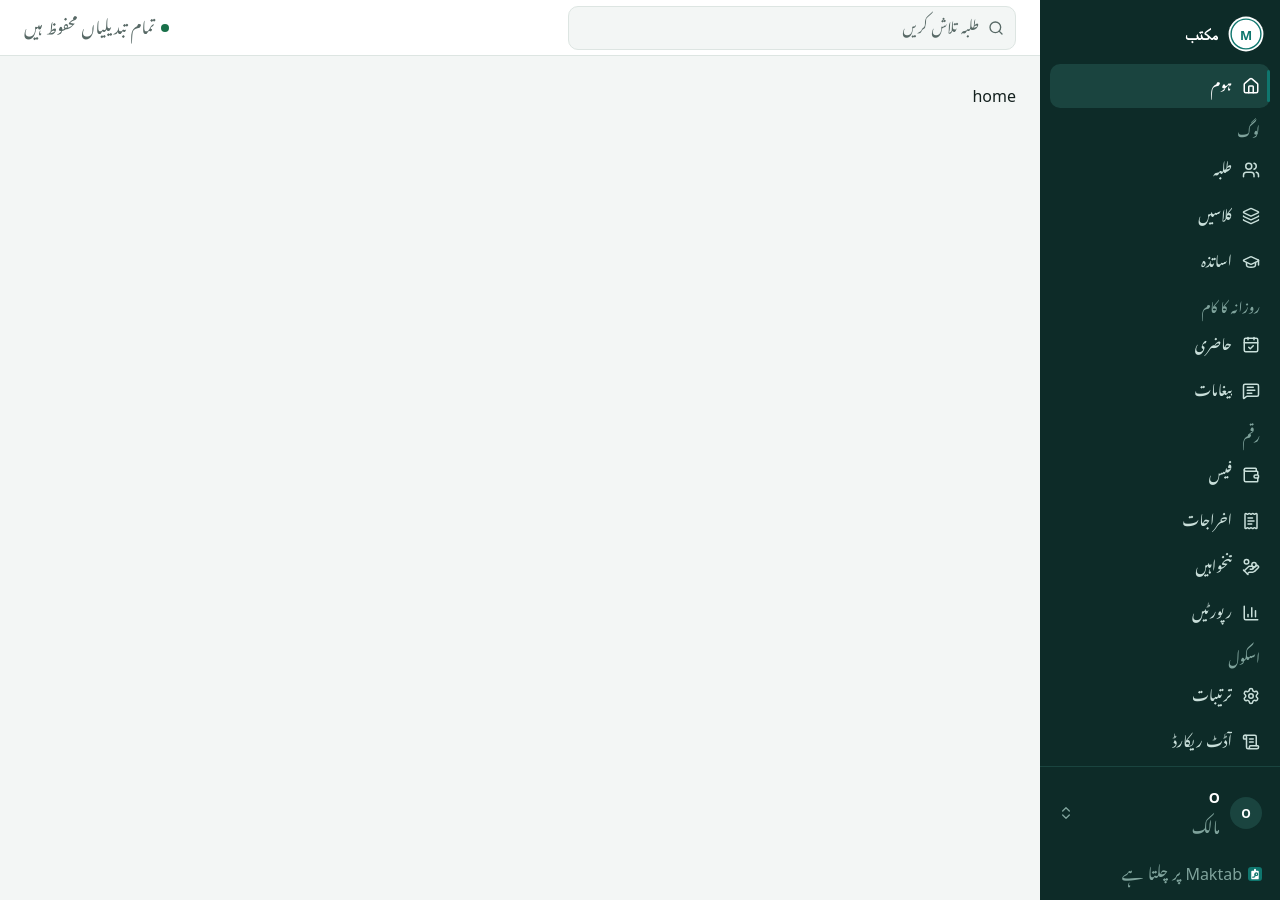
Test: Urdu mirroring (smoke) › the shell turns right-to-left, in Urdu, with logical sides and mirrored arrows
The image size is (1280, 900).
Check: the heading "لوگ" is shown, box left=1238, top=124, right=1260, bottom=141
Check: the text "Maktab پر چلتا ہے" is shown, box left=1122, top=858, right=1242, bottom=890
Step 1. Click the button with aria-label "اکاؤنٹ مینو" → (1160, 813), box left=1050, top=777, right=1270, bottom=850
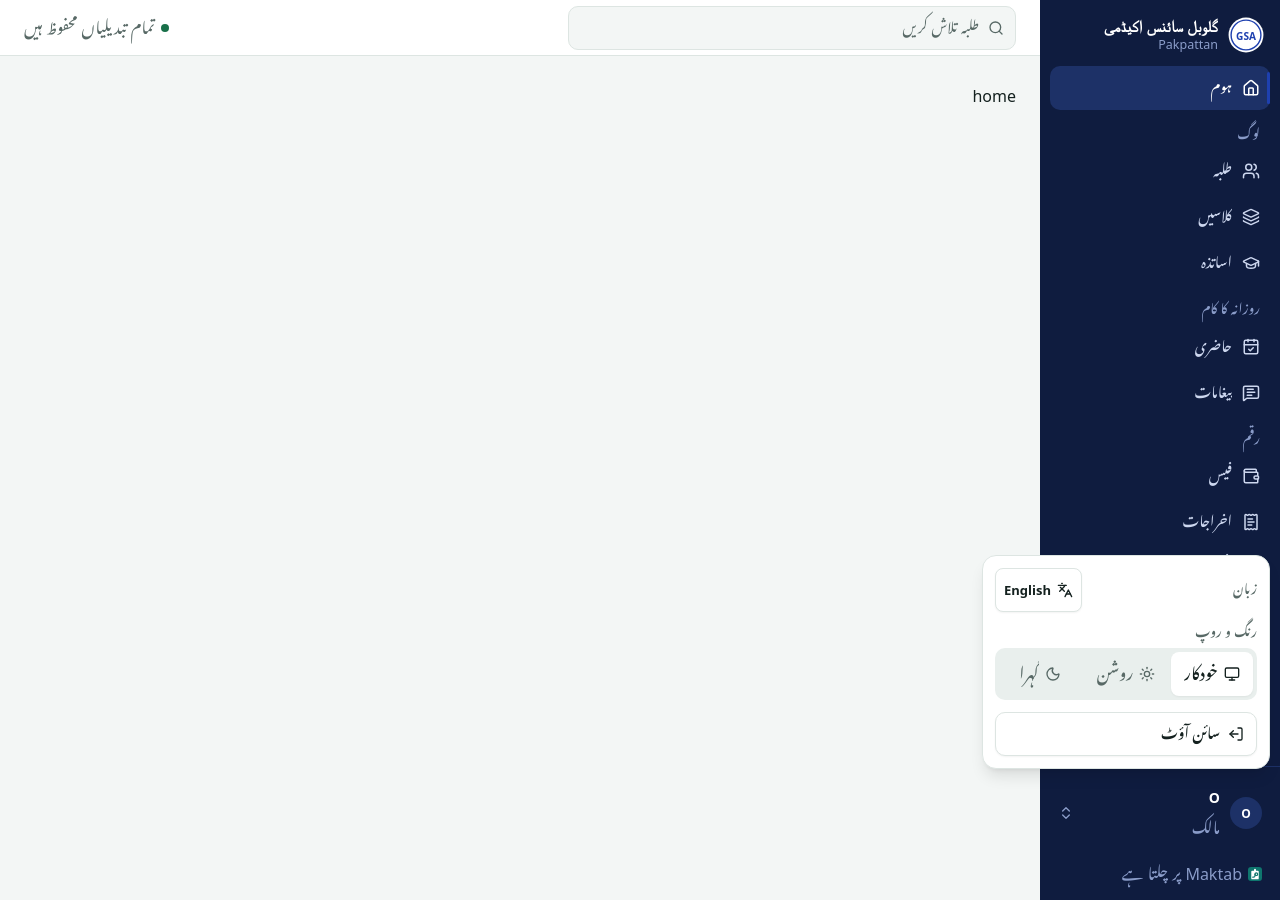
Check: the text "گلوبل سائنس اکیڈمی" is shown, box left=1104, top=16, right=1218, bottom=36
